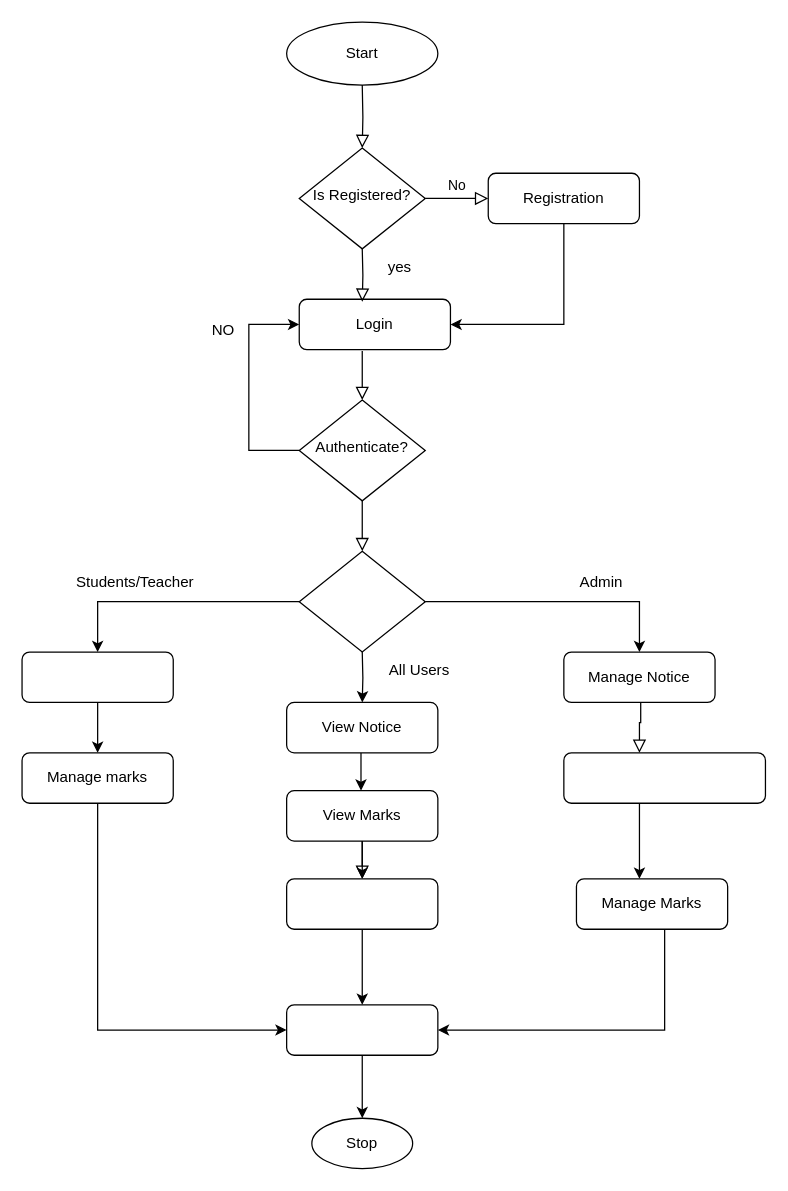
Image size: 788x1191. Some labels were removed from this diagram. Each missing label, with the box of its shape:
Admin/User: (298, 550, 425, 652)
Logout: (285, 1004, 438, 1055)
Manage Attendance: (21, 651, 173, 702)
Manage Students/Teacher: (563, 752, 765, 803)
Profile Management: (285, 878, 438, 929)
